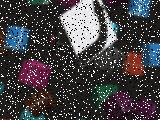Left: (59, 0, 118, 67)
